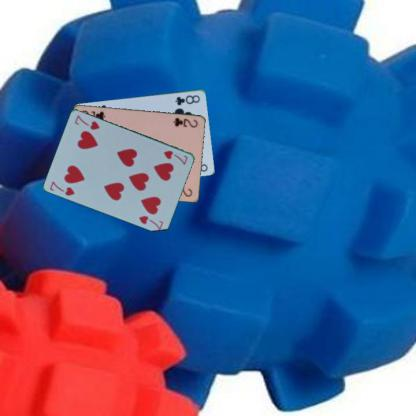2c: (171, 115, 199, 129)
7h: (161, 147, 189, 166), (48, 179, 76, 197)
8c: (173, 92, 201, 107)
